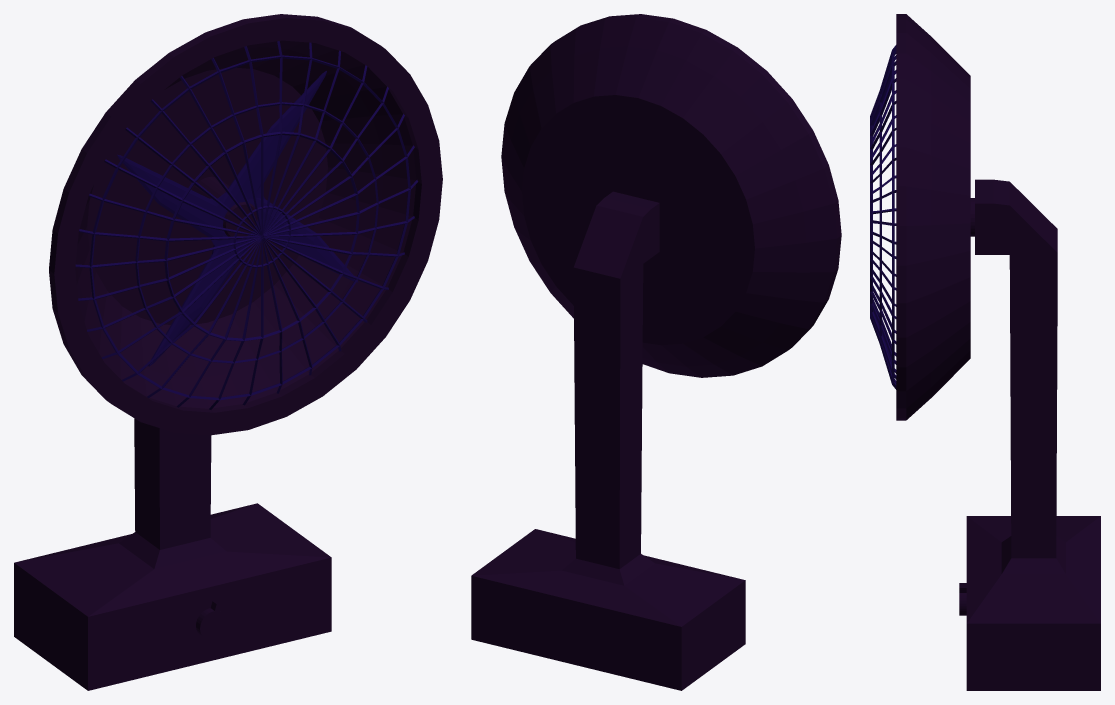
The model's file is ventilador.fbx.
The picture shows the model from 3 angles, left to right: view 1: azimuth 30°, elevation 25°; view 2: azimuth 150°, elevation 25°; view 3: azimuth 270°, elevation 25°; orthographic projection. The views are drawn at different scales.
Parts seen in each view (by area): view 1: Círculo, Círculo.001, Cubo; view 2: Círculo; view 3: Círculo, Círculo.001.
Part boxes in pixels (x1,y1,x2,y2): Círculo: [14, 14, 442, 690]; Círculo.001: [75, 41, 417, 409]; Cubo: [117, 71, 358, 366]; Círculo: [471, 14, 841, 690]; Círculo: [896, 14, 1100, 690]; Círculo.001: [870, 45, 896, 389].
Bounding box in the file's own units: 200 × 328 × 113.
